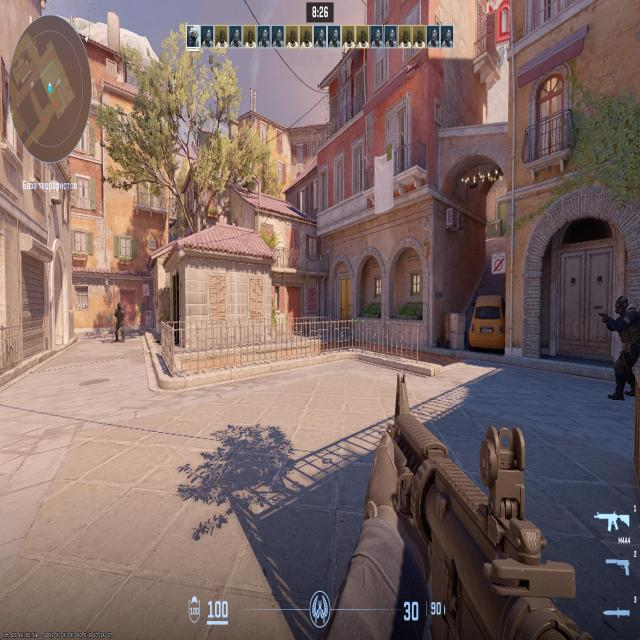CT: (610, 296, 634, 387), (116, 302, 125, 342)
CT_heat: (617, 297, 628, 314), (118, 305, 122, 310)
